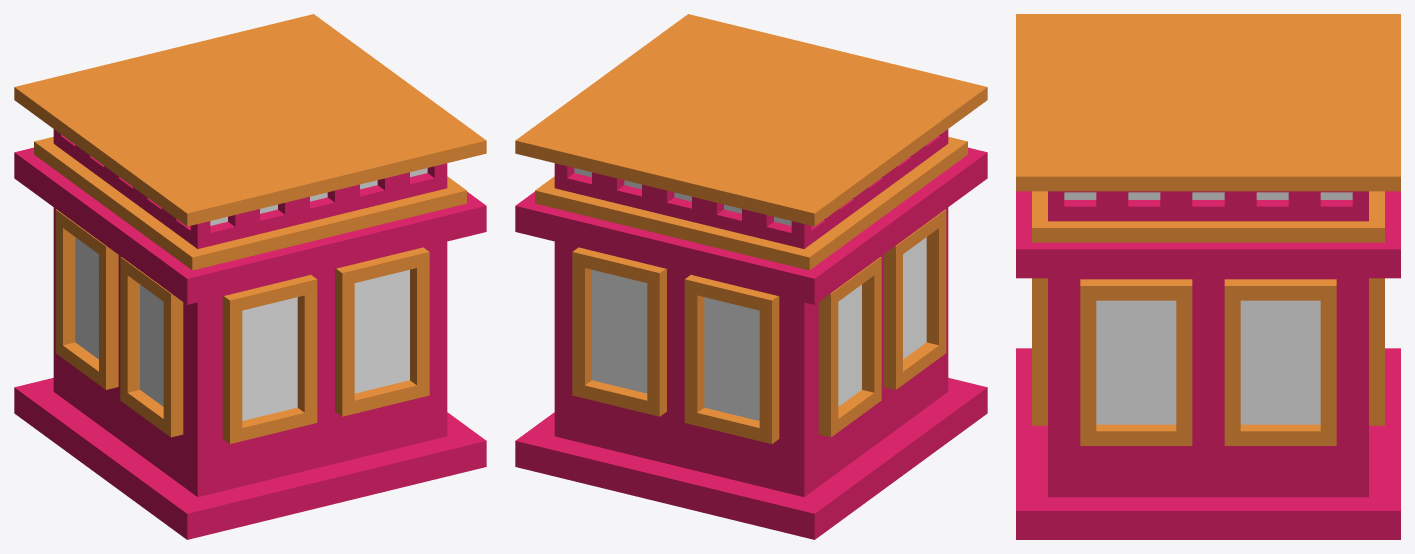
Rendered from PinkHouse.fbx.
3 views of the same model, side by side, from view 1: azimuth 30°, elevation 25°; view 2: azimuth 150°, elevation 25°; view 3: azimuth 270°, elevation 25° (orthographic). The views are drawn at different scales.
Parts seen in each view (by area): view 1: Box; view 2: Box; view 3: Box.
Part boxes in pixels (x1,y1,x2,y2): Box: [14, 14, 486, 539]; Box: [515, 14, 987, 539]; Box: [1016, 14, 1400, 539].
Bounding box in the file's own units: 24 × 25 × 24.
1 material, 1 textured.
